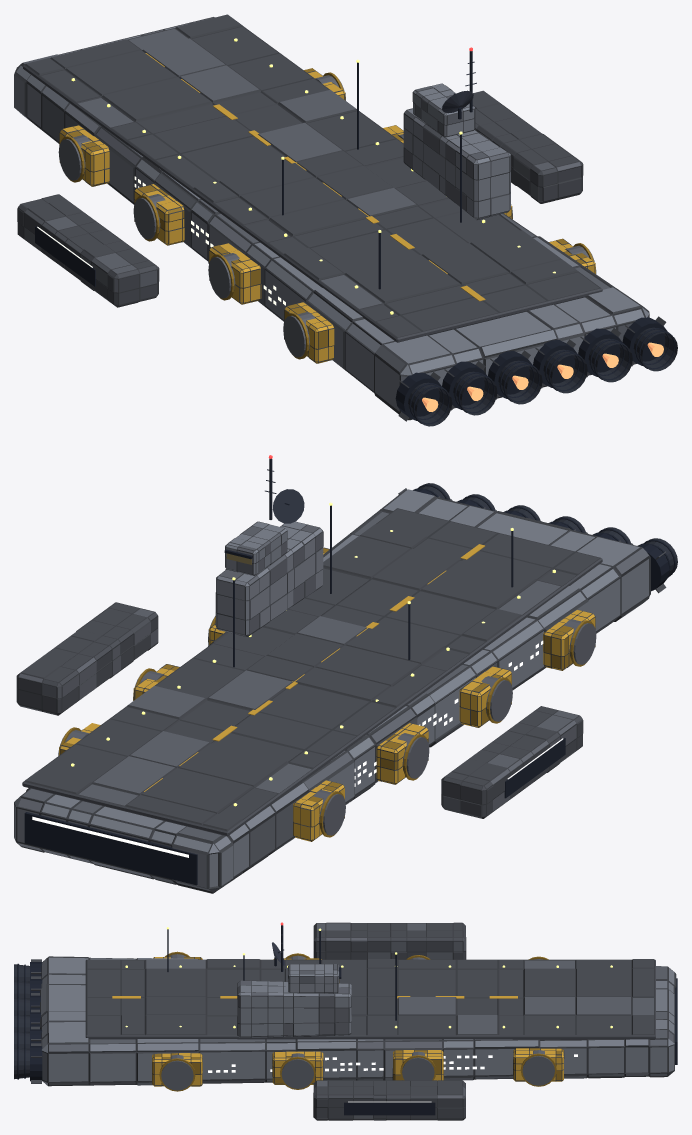
Rendered from colossus.glb.
3 renders of one model, top to bottom at view 1: azimuth 30°, elevation 25°; view 2: azimuth 150°, elevation 25°; view 3: azimuth 270°, elevation 25°, orthographic. The views are drawn at different scales.
Parts seen in each view (by area): view 1: colossus_mesh; view 2: colossus_mesh, radar_mesh; view 3: colossus_mesh.
Boxes of the visible parts, x1,y1,x2,y2 form: colossus_mesh: (14, 14, 677, 426); colossus_mesh: (14, 458, 677, 893); radar_mesh: (272, 489, 304, 523); colossus_mesh: (14, 922, 677, 1120).
Bounding box in the file's own units: 39.22 × 17.25 × 62.85.
